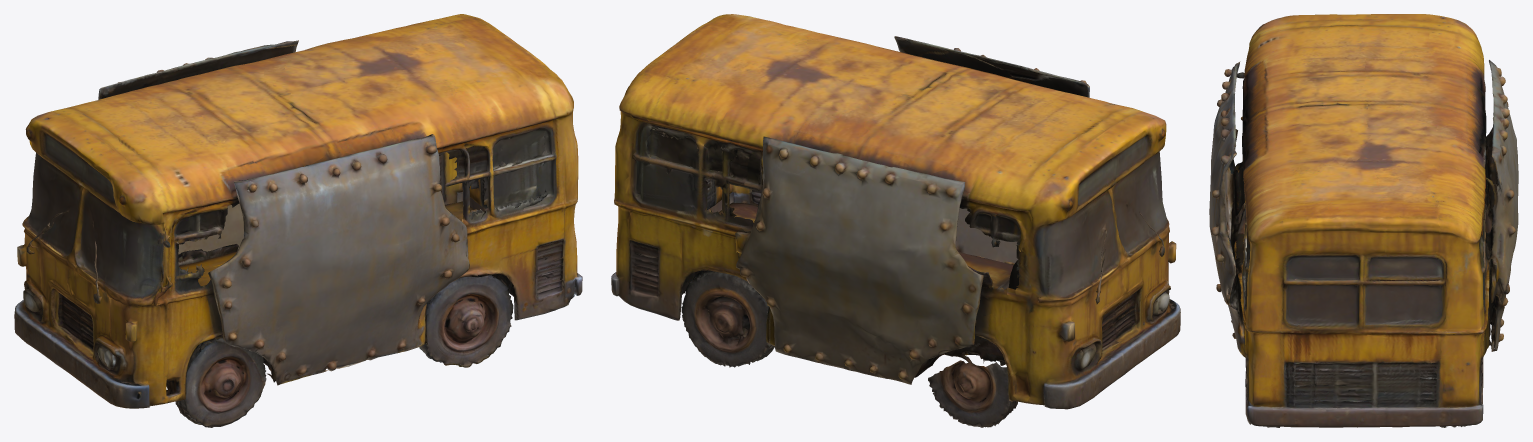
Rendered from bus.glb.
3 views of the same model, side by side, from view 1: azimuth 30°, elevation 25°; view 2: azimuth 150°, elevation 25°; view 3: azimuth 270°, elevation 25° (orthographic). The views are drawn at different scales.
Parts seen in each view (by area): view 1: Mesh_0; view 2: Mesh_0; view 3: Mesh_0.
Boxes of the visible parts, x1,y1,x2,y2 form: Mesh_0: (14,14,582,427); Mesh_0: (611,14,1180,427); Mesh_0: (1209,14,1518,427).
Bounding box in the file's own units: 7.33 × 4 × 4.37.
1 material, 1 textured.
